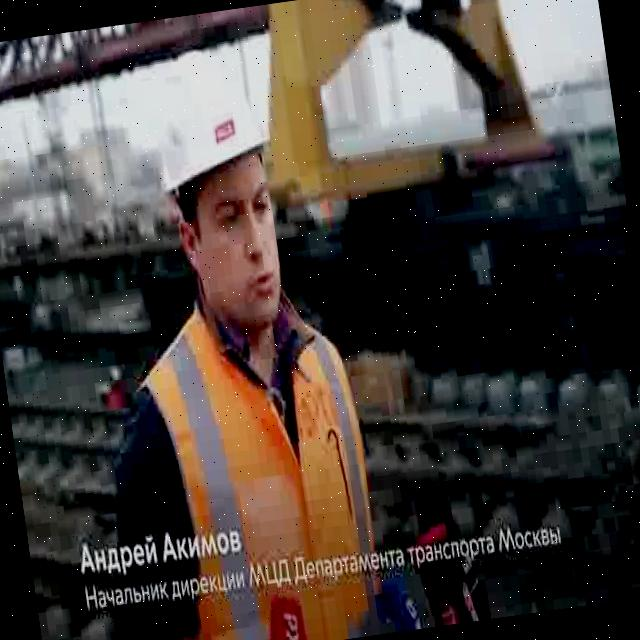helmet: (146, 49, 276, 198)
vest: (123, 268, 393, 640)
